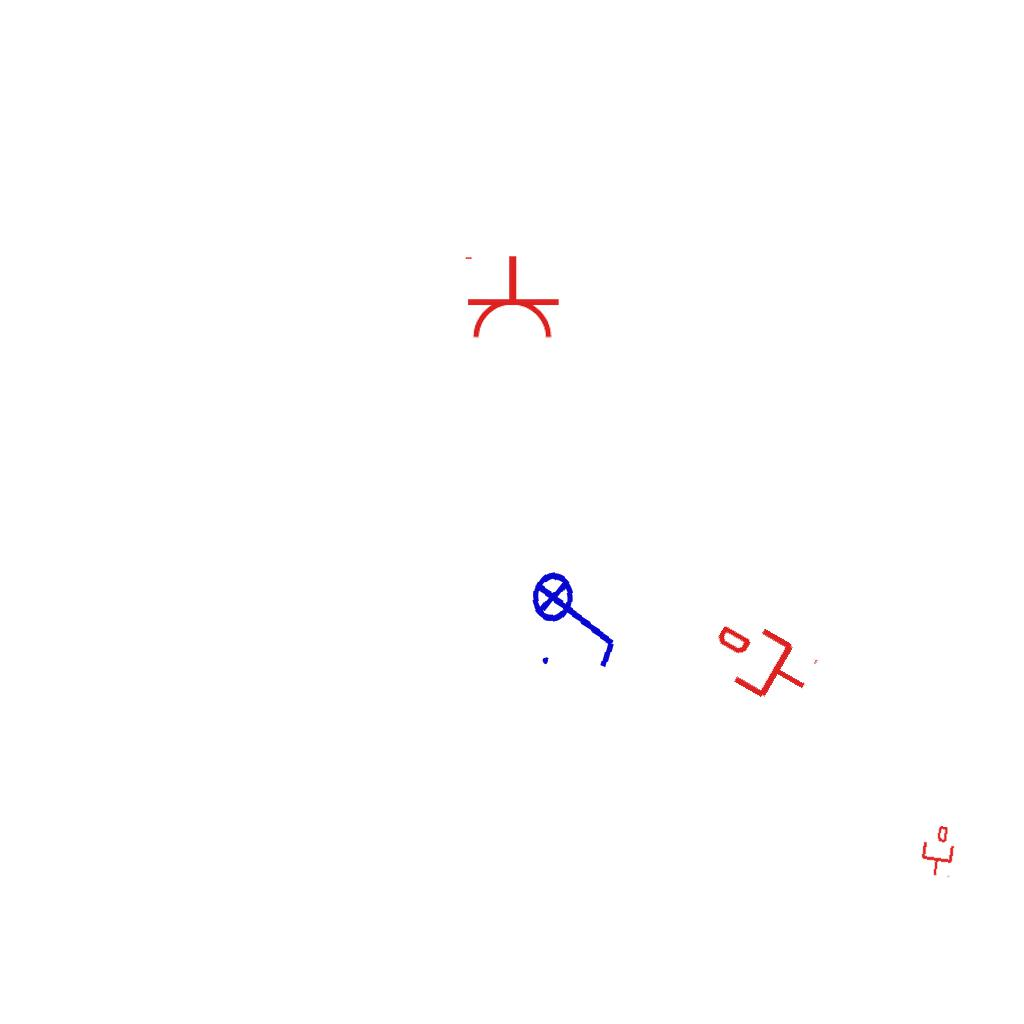Ausschalter_beleuchtet: (523, 556, 631, 678)
Datenanschluss_einfach: (700, 607, 823, 717), (917, 823, 959, 879)
Schukosteckdose_einfach: (461, 254, 561, 341)
